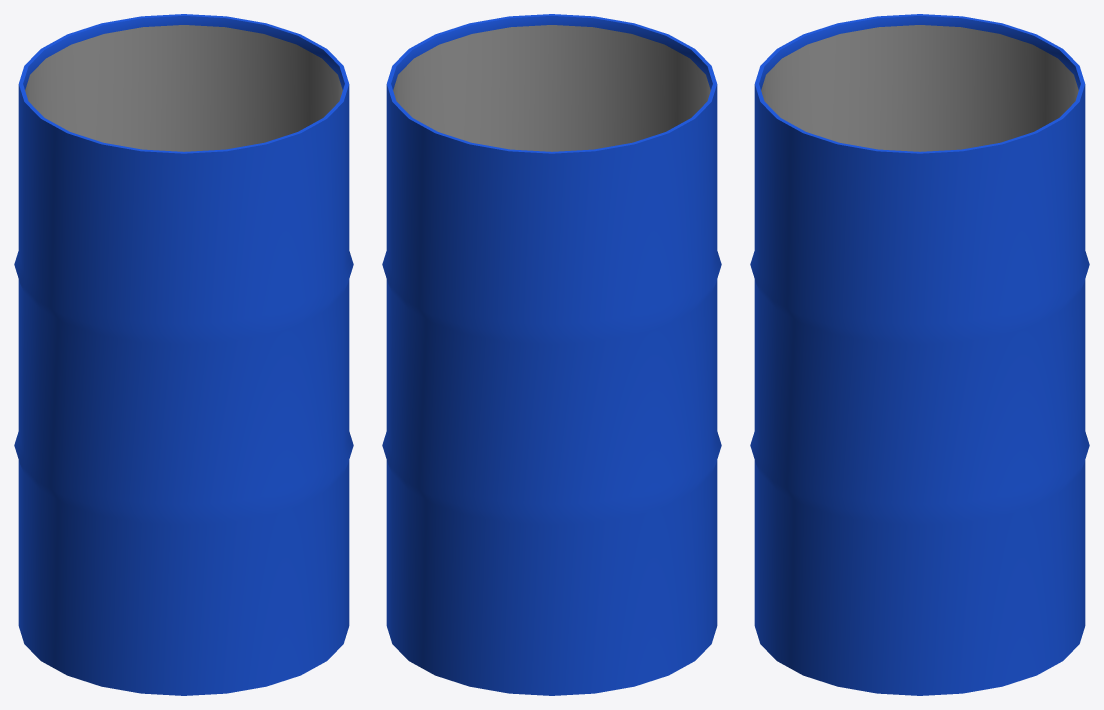
The model's file is barrel_open_2mat_damage1.fbx.
3 views of the same model, side by side, from view 1: azimuth 30°, elevation 25°; view 2: azimuth 150°, elevation 25°; view 3: azimuth 270°, elevation 25° (orthographic).
Parts seen in each view (by area): view 1: barrel_open_2mat_damage1; view 2: barrel_open_2mat_damage1; view 3: barrel_open_2mat_damage1.
Part boxes in pixels (x1=…): barrel_open_2mat_damage1: x1=14, y1=14, x2=353, y2=695; barrel_open_2mat_damage1: x1=382, y1=14, x2=721, y2=695; barrel_open_2mat_damage1: x1=750, y1=14, x2=1089, y2=695.
Bounding box in the file's own units: 51 × 89.88 × 51.
